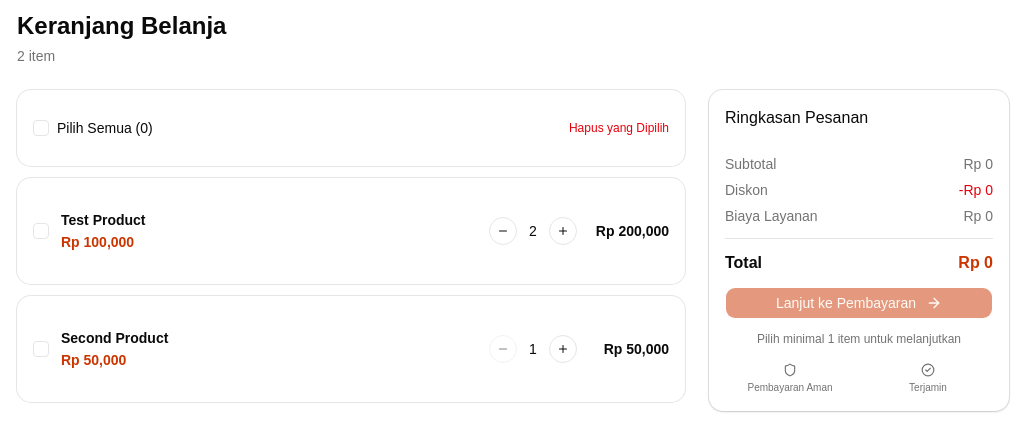
Test: Step1PurchaseCartPage Component Tests › enables continue button when items are selected
The width and height of the screenshot is (1027, 429).
Expected: the text "Test Product" is shown, [61,212,146,228]
Select first item
Click the checkbox next to "Test Product": click(41, 231) [33,223,49,239]
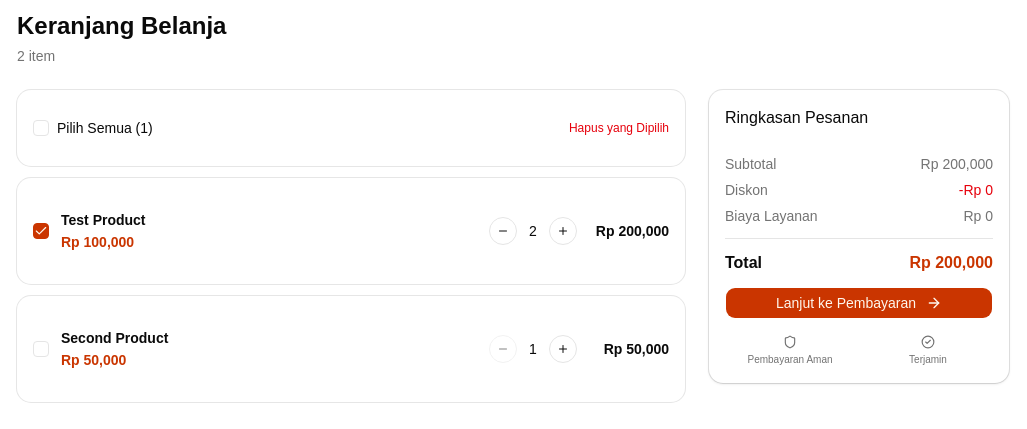
Expected: the button "Lanjut ke Pembayaran" is enabled, [725,287,993,319]
